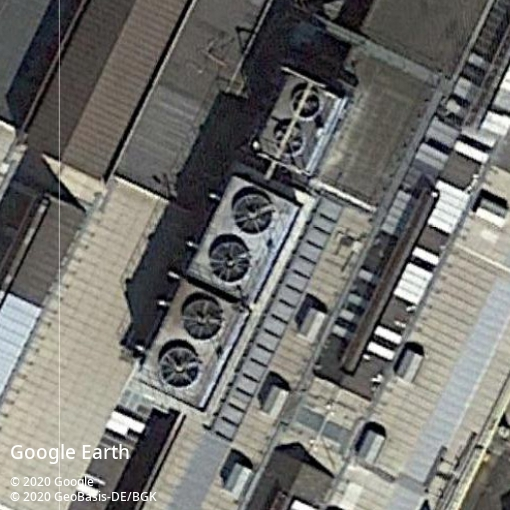Vent: (208, 241, 252, 284), (158, 347, 202, 389), (232, 195, 276, 236), (183, 300, 224, 341), (290, 88, 324, 120), (274, 125, 306, 156)
